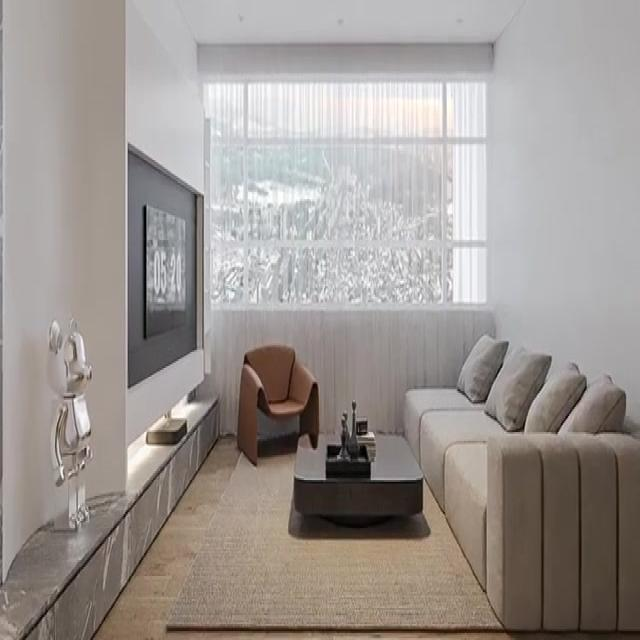obstacle: (402, 352, 639, 633), (293, 428, 423, 526), (236, 343, 319, 466)
